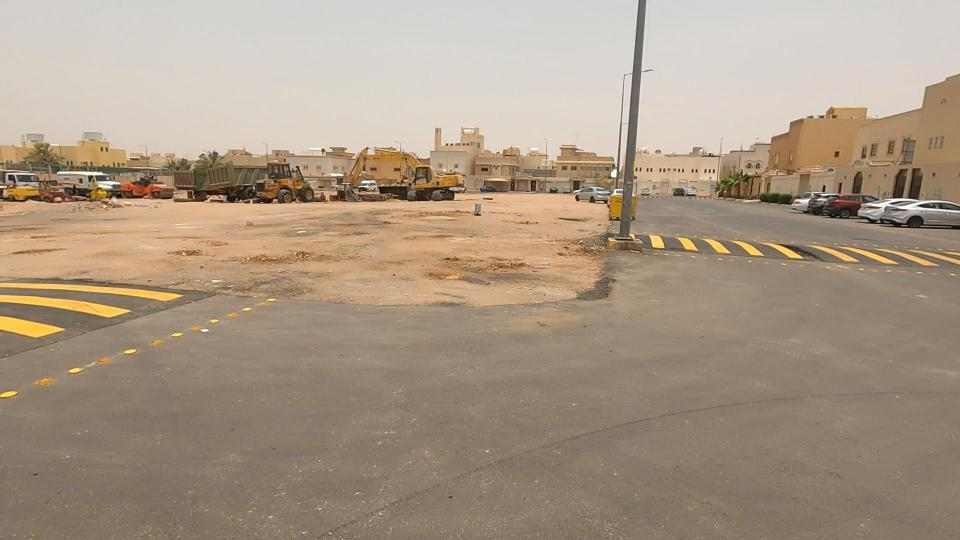GARBAGE: (449, 190, 505, 228)
